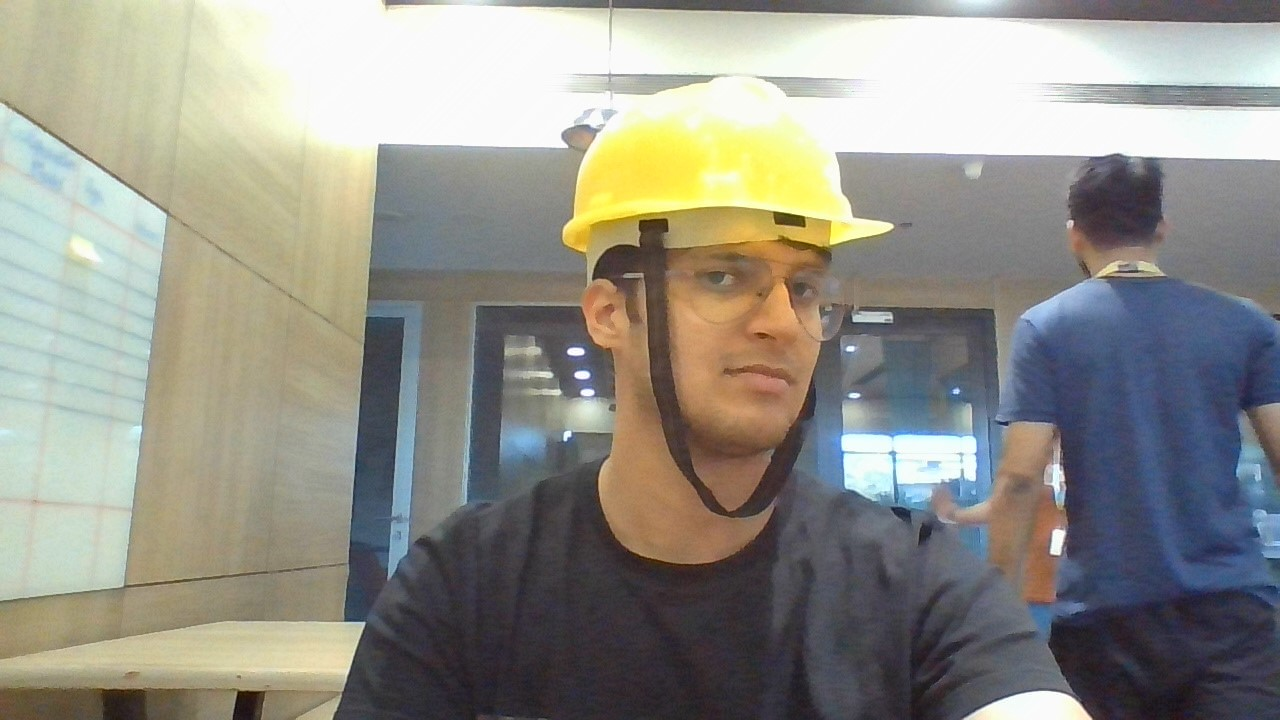Person_wearing_helmet: (559, 59, 910, 299)
